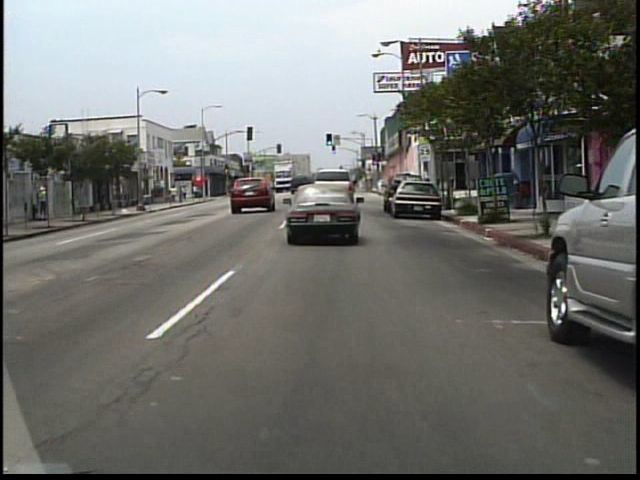person: (40, 183, 51, 220), (171, 185, 178, 204), (180, 185, 185, 203)
